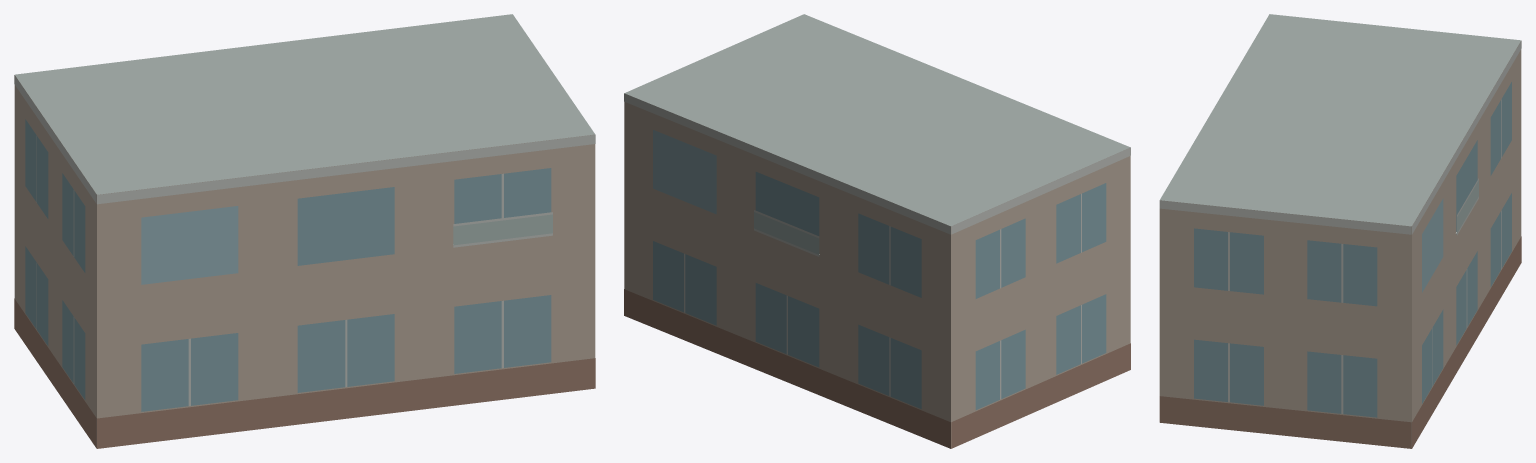
File: survey-upis-32805554.glb
3 renders of one model, left to right at view 1: azimuth 30°, elevation 25°; view 2: azimuth 150°, elevation 25°; view 3: azimuth 270°, elevation 25°, orthographic. The views are drawn at different scales.
Visible parts, largest first — view 1: survey-upis-32805554.tmp; view 2: survey-upis-32805554.tmp; view 3: survey-upis-32805554.tmp.
Boxes of the visible parts, left/top/right/bottom form: survey-upis-32805554.tmp: left=14, top=14, right=595, bottom=448; survey-upis-32805554.tmp: left=624, top=14, right=1130, bottom=448; survey-upis-32805554.tmp: left=1159, top=14, right=1521, bottom=448.
Size of the model in its own units: 13.32 by 6.5 by 9.59.
